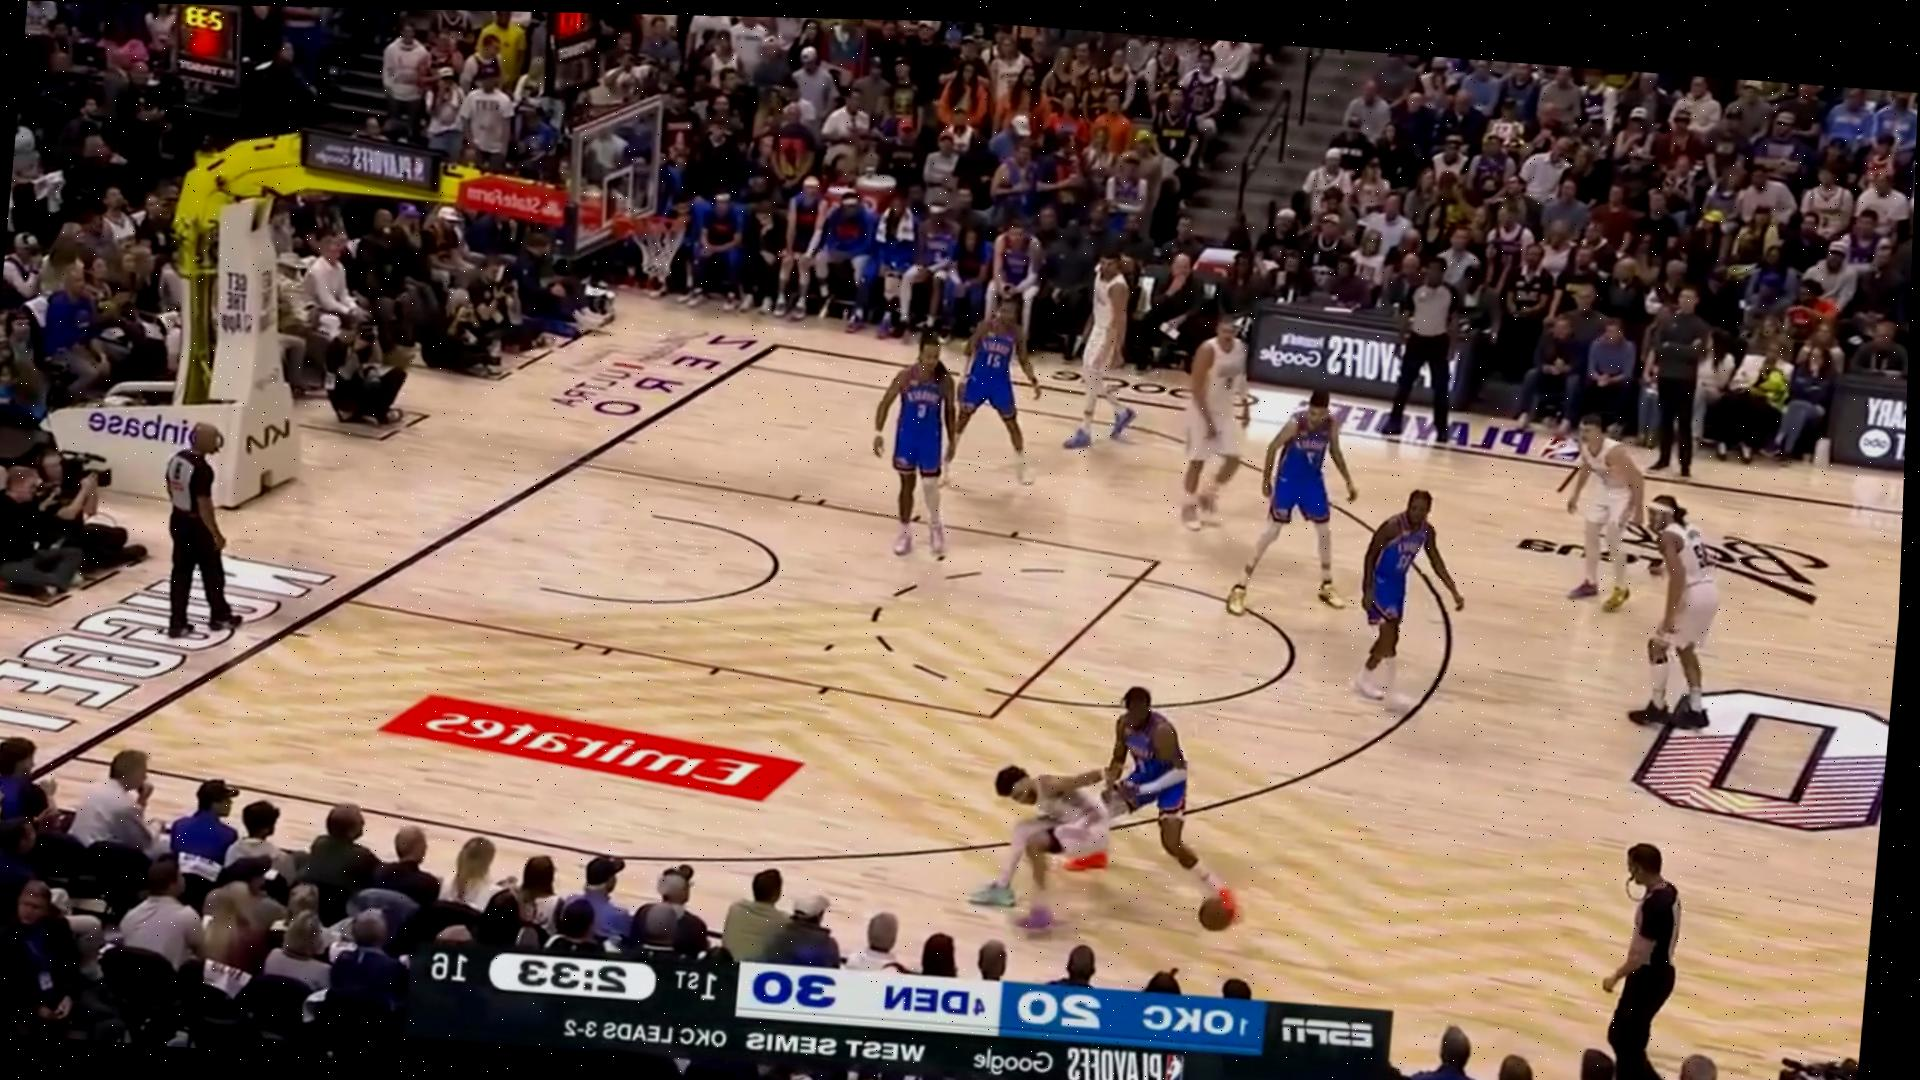foul: (915, 661, 1287, 952)
